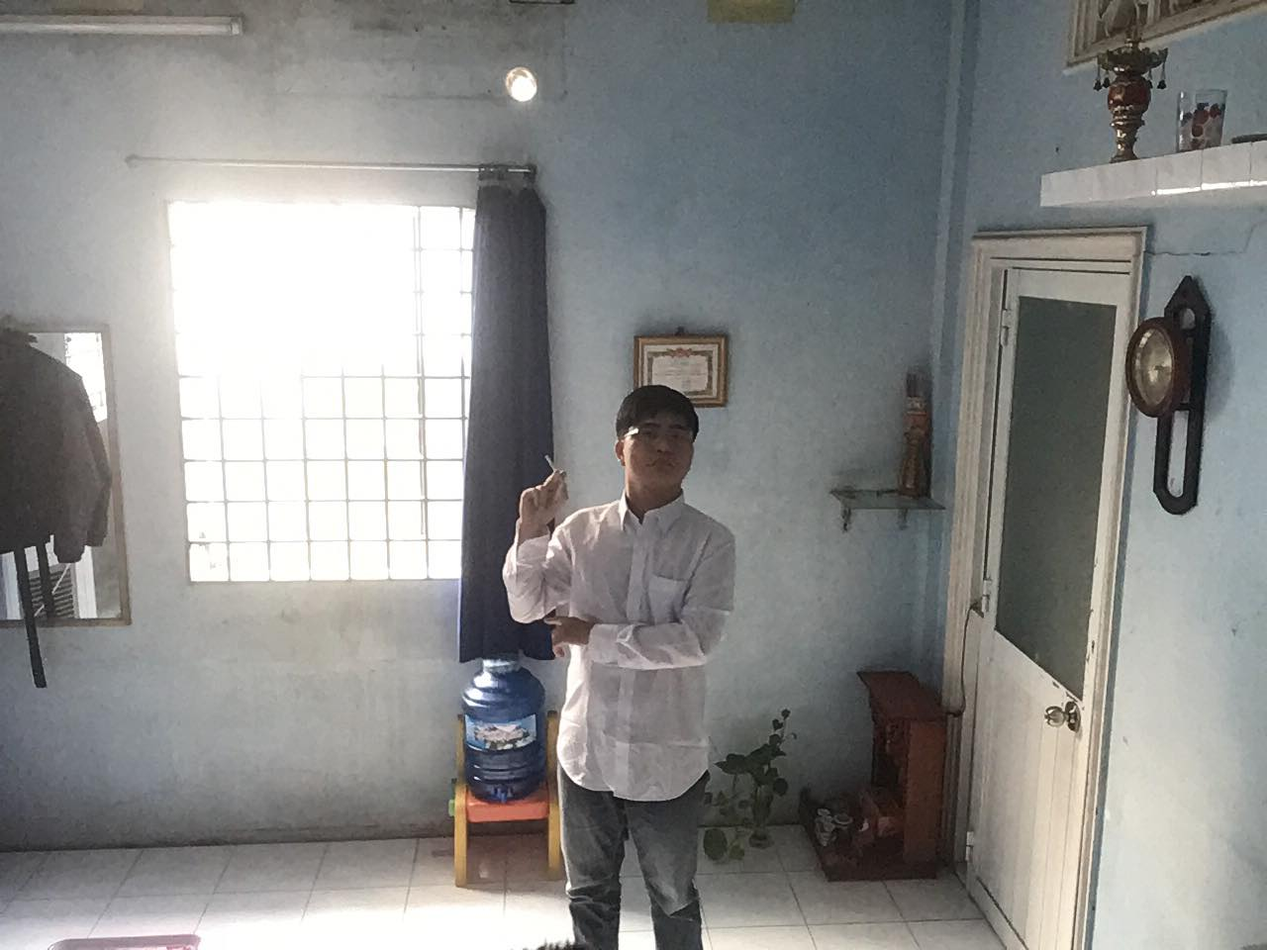cigarette: (537, 447, 564, 472)
person: (493, 360, 772, 950)
